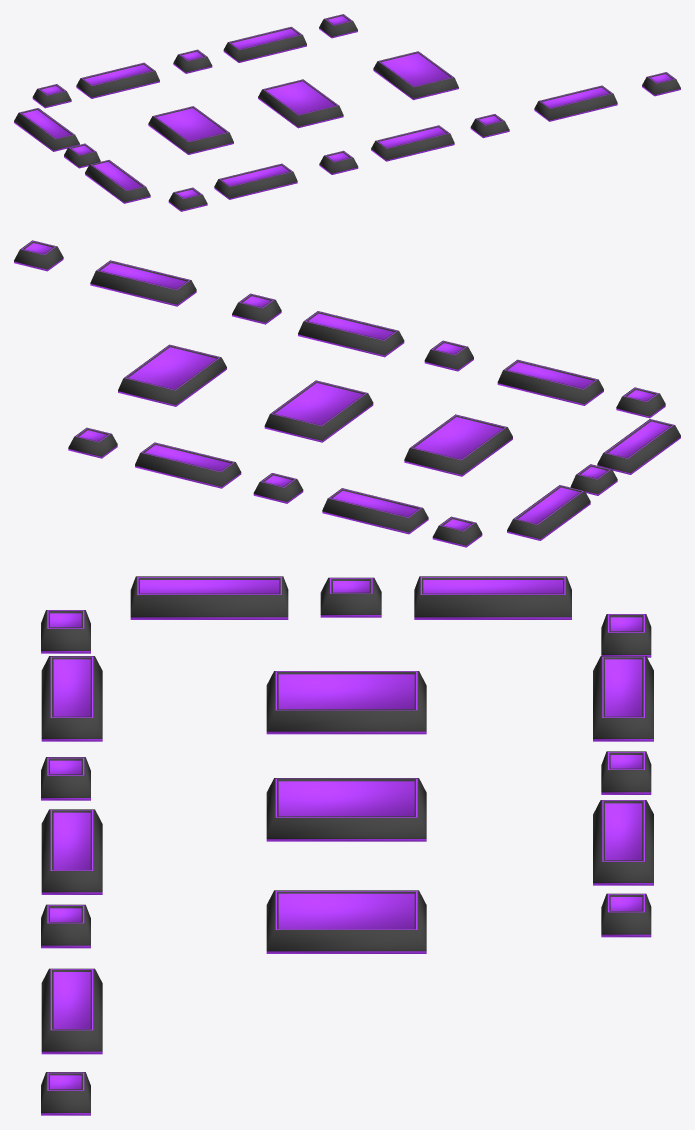
The model's file is twitch-nft-stands.glb.
3 renders of one model, top to bottom at view 1: azimuth 30°, elevation 25°; view 2: azimuth 150°, elevation 25°; view 3: azimuth 270°, elevation 25°, orthographic. The views are drawn at different scales.
Visible parts, largest first — view 1: Twitch; view 2: Twitch; view 3: Twitch.
Part boxes in pixels (<box>): Twitch: <box>14,14,680,211</box>; Twitch: <box>14,240,680,547</box>; Twitch: <box>41,576,653,1115</box>.
Size of what is drawn, in the model's own units: 49.75 by 0.9442 by 24.73.
